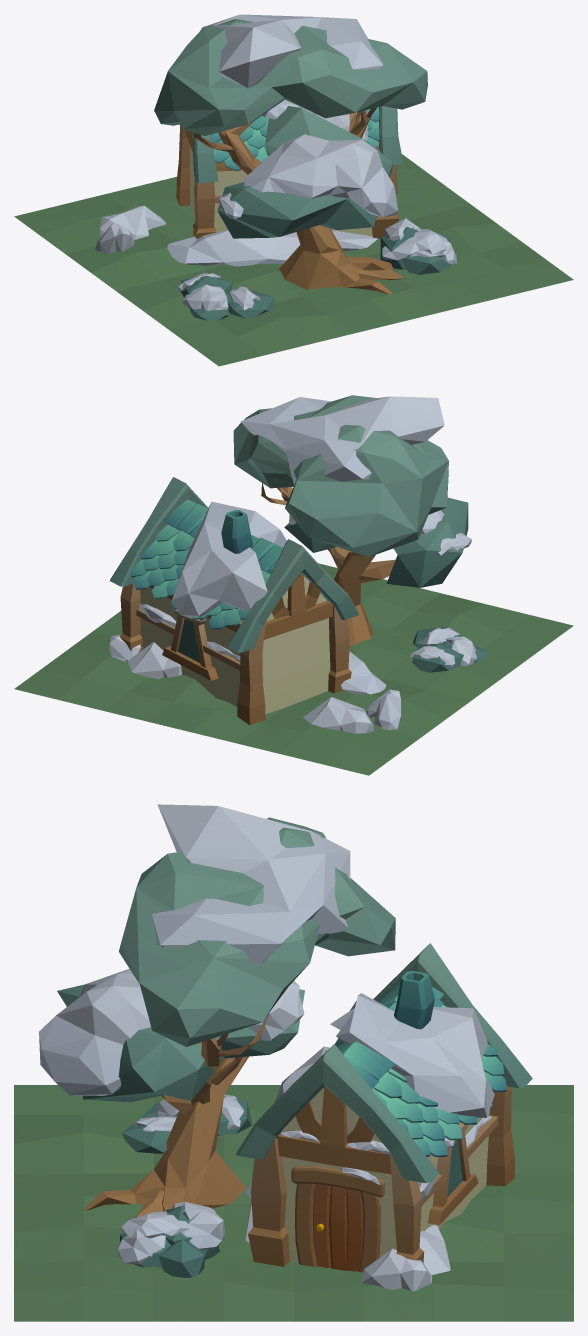
File: house_snow.gltf
3 views of the same model, one above another, from view 1: azimuth 30°, elevation 25°; view 2: azimuth 150°, elevation 25°; view 3: azimuth 270°, elevation 25° (orthographic). The views are drawn at different scales.
Visible parts, largest first — view 1: Arbol1.063, Plane.000, Arbol1.049, Icosphere.016, Circle.001, Icosphere.019, Cube.033, Arbol1.048, Circle.002, Arbol1.062, Cube.032, Cube.031 (+4 smaller); view 2: Plane.000, Arbol1.063, Cube.033, Arbol1.056, Circle.002, Cube.031, Cube.007, Cube.032, Cube.030, Cube.026, Cube.029, Arbol1.048 (+8 smaller); view 3: Plane.000, Arbol1.063, Arbol1.056, Cube.032, Cube.028, Circle.002, Cube.033, Cube.015, Cube.011, Cube.031, Cube.007, Cube.027 (+16 smaller).
Boxes of the visible parts, x1,y1,x2,y2 form: Arbol1.063: (154,14,427,294); Plane.000: (14,154,573,366); Arbol1.049: (167,230,377,266); Icosphere.016: (181,275,274,320); Circle.001: (212,107,379,171); Icosphere.019: (380,227,450,274); Cube.033: (189,142,378,236); Arbol1.048: (99,205,166,239); Circle.002: (193,177,216,238); Arbol1.062: (382,229,447,260); Cube.032: (378,106,403,165); Cube.031: (179,124,218,183); Plane.000: (14,563,573,775); Arbol1.063: (233,395,468,645); Cube.033: (140,576,330,714); Arbol1.056: (172,501,286,621); Circle.002: (130,524,351,693); Cube.031: (227,539,359,652); Cube.007: (136,608,240,680); Cube.032: (110,477,208,586); Cube.030: (264,573,332,639); Cube.026: (237,621,265,725); Cube.029: (164,499,283,573); Arbol1.048: (303,697,373,733); Plane.000: (14,1085,573,1321); Arbol1.063: (39,804,395,1218); Arbol1.056: (330,993,494,1117); Cube.032: (236,1044,439,1183); Cube.028: (277,1087,391,1174); Circle.002: (372,1004,507,1156); Cube.033: (281,1088,489,1262); Cube.015: (291,1166,384,1272); Cube.011: (248,1137,289,1266); Cube.031: (335,943,532,1088); Cube.007: (421,1115,498,1224); Cube.027: (390,1152,424,1262).
Size of the model in its own units: 10 by 7.27 by 10.
Materials: 3 (3 with a texture image).
